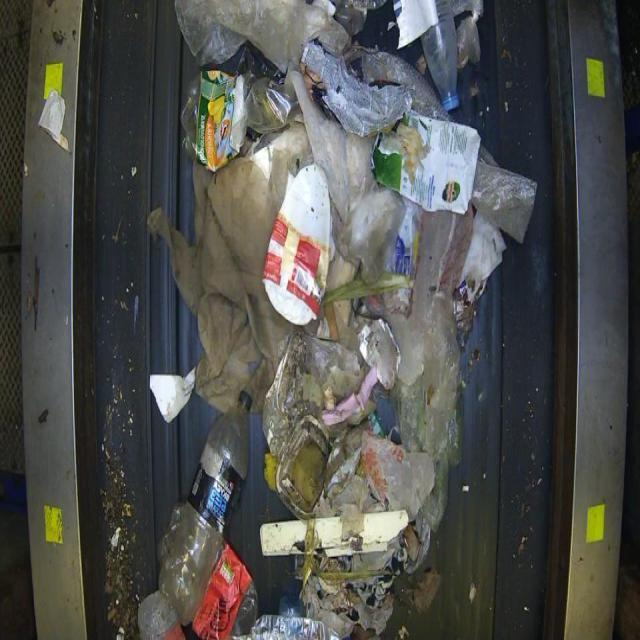cups: (261, 163, 333, 326)
other-trash: (139, 0, 537, 638)
